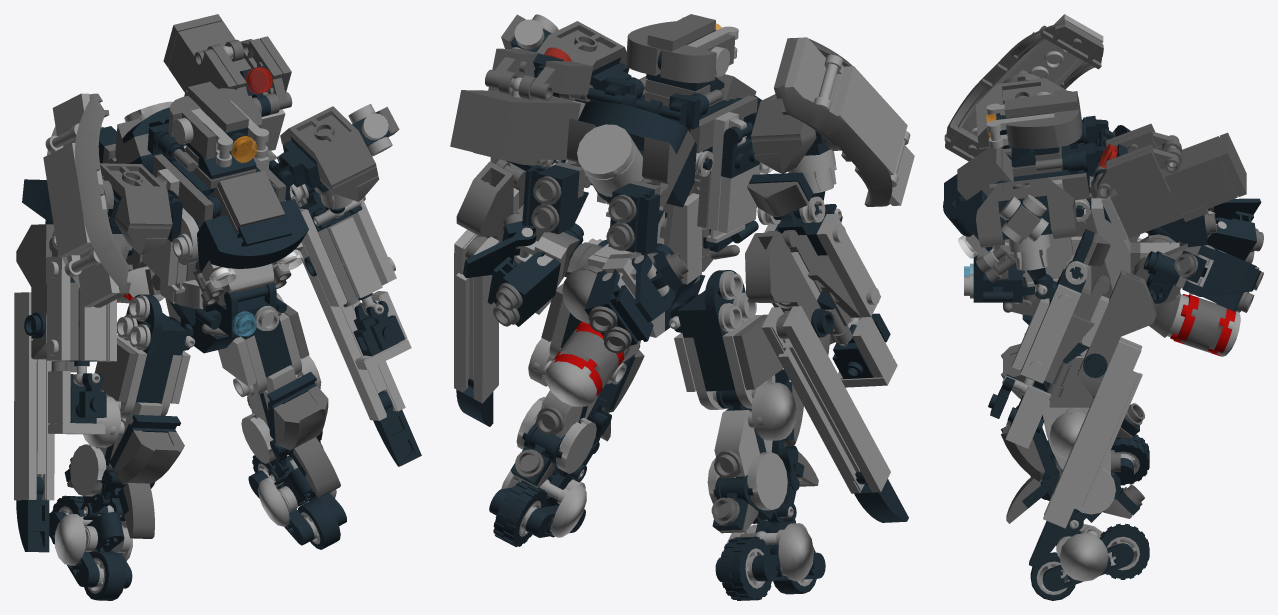
Rendered from ag-01s-brynhildr.dae.
3 views of the same model, side by side, from view 1: azimuth 30°, elevation 25°; view 2: azimuth 150°, elevation 25°; view 3: azimuth 270°, elevation 25° (orthographic). The views are drawn at different scales.
Size of the model in its own units: 351 by 262 by 431.
